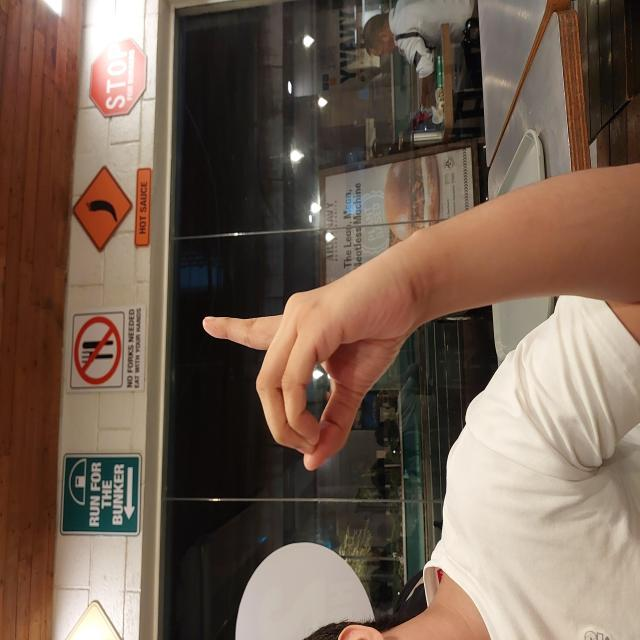D: (168, 200, 394, 420)
